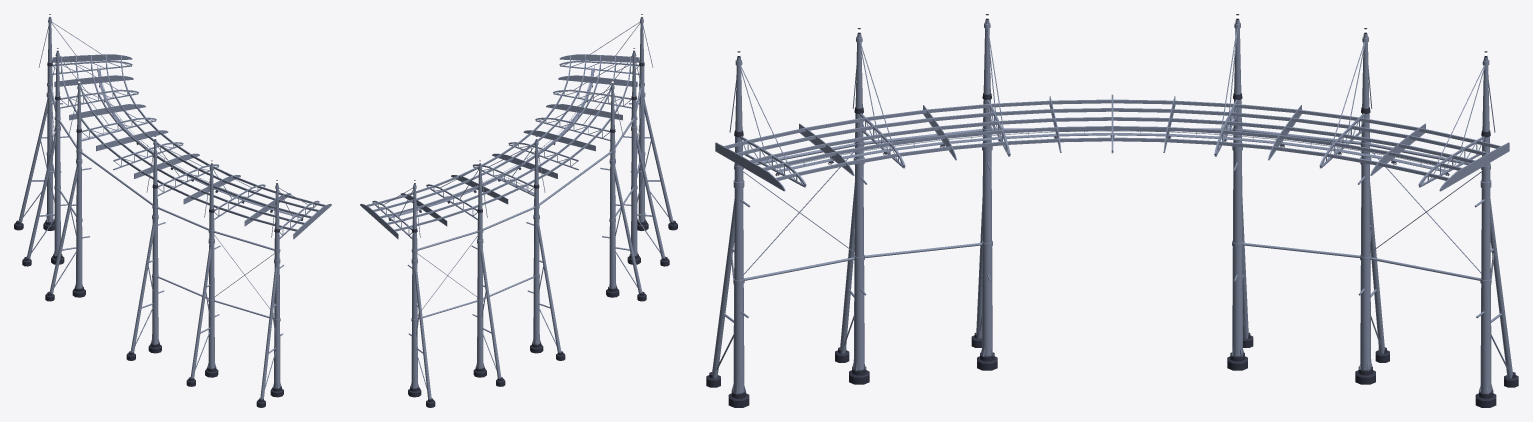
File: roof_canopy_steel_east.glb
3 views of the same model, side by side, from view 1: azimuth 30°, elevation 25°; view 2: azimuth 150°, elevation 25°; view 3: azimuth 270°, elevation 25° (orthographic). The views are drawn at different scales.
Parts seen in each view (by area): view 1: roof_canopy_steel_east; view 2: roof_canopy_steel_east; view 3: roof_canopy_steel_east.
Part boxes in pixels (bbox=[...]): roof_canopy_steel_east: bbox=[14, 14, 331, 407]; roof_canopy_steel_east: bbox=[360, 14, 677, 407]; roof_canopy_steel_east: bbox=[706, 14, 1518, 407].
Bounding box in the file's own units: 67.08 × 94.55 × 198.
